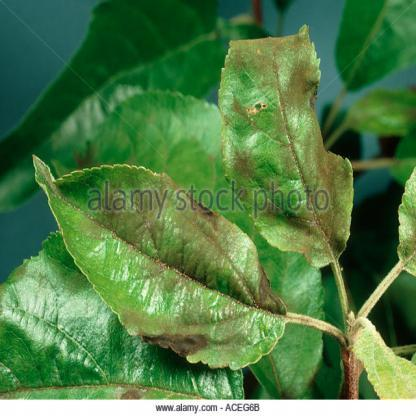Apple Scab Leaf: (32, 148, 299, 378), (223, 28, 360, 272)
